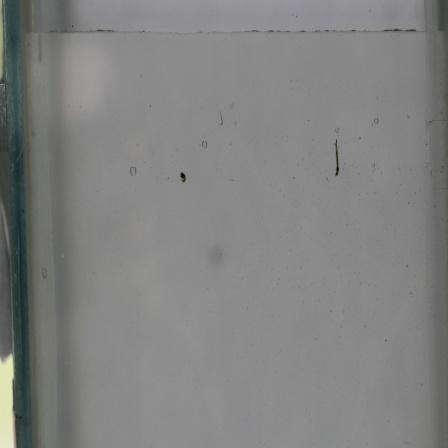Jentik-Nyamuk: (329, 136, 342, 179), (176, 169, 190, 187)
